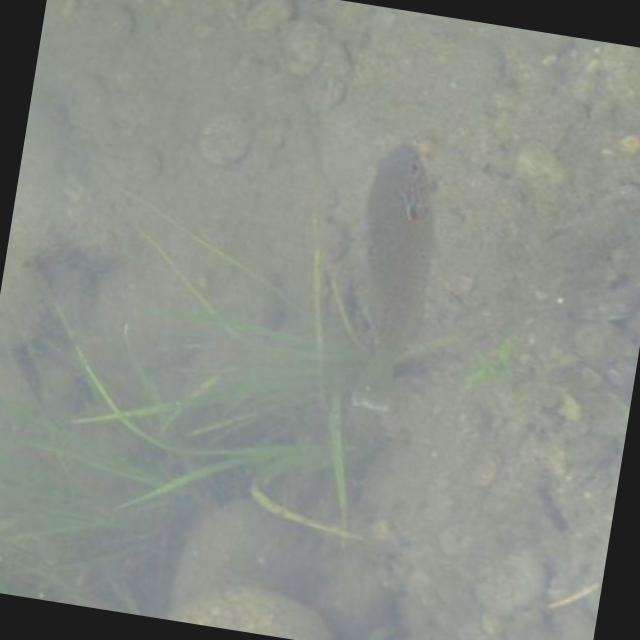Gunes Levregi: (322, 124, 467, 418)
